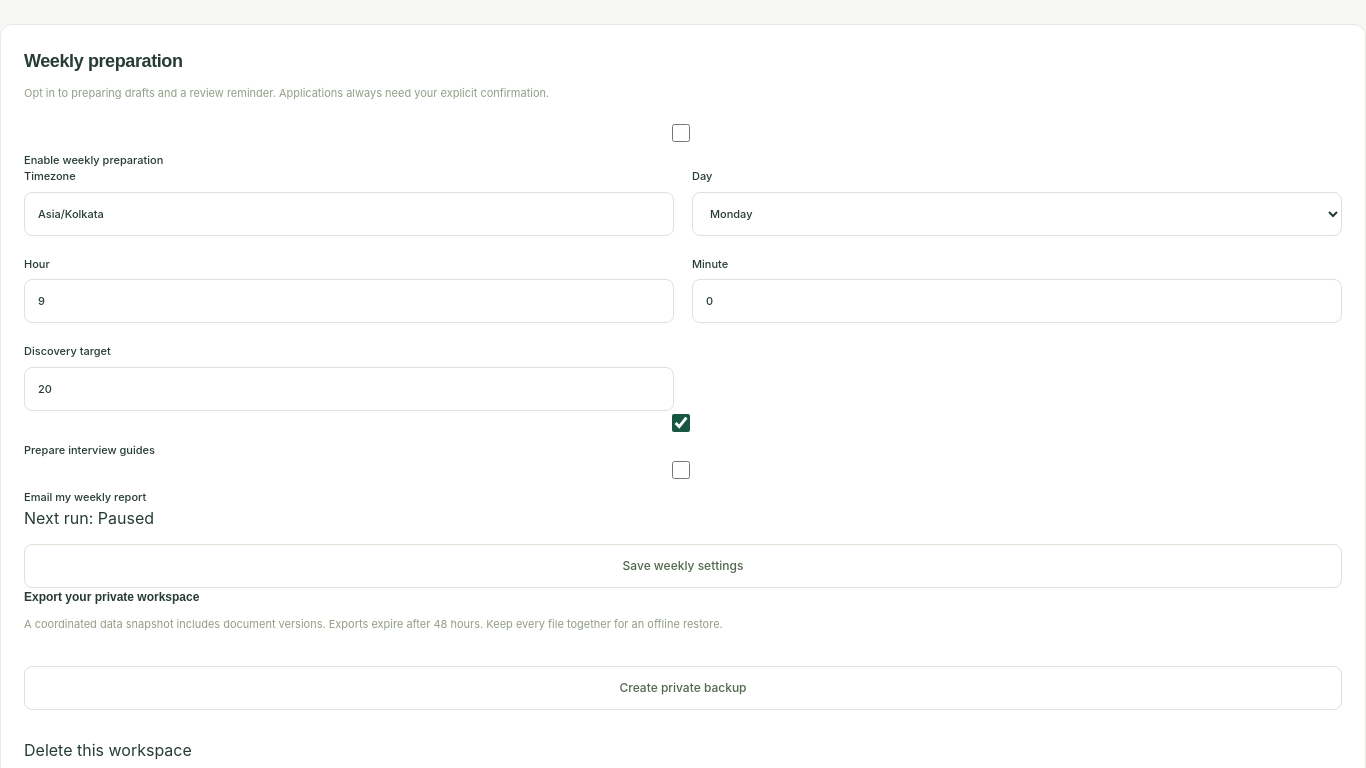
Test case: keeps provider errors visible and does not claim delivery
Expected: the text "Next run: Paused" is shown, [24,508,154,528]
Step 1. Click the button "Save weekly settings" → (683, 566), box [24,544,1342,588]
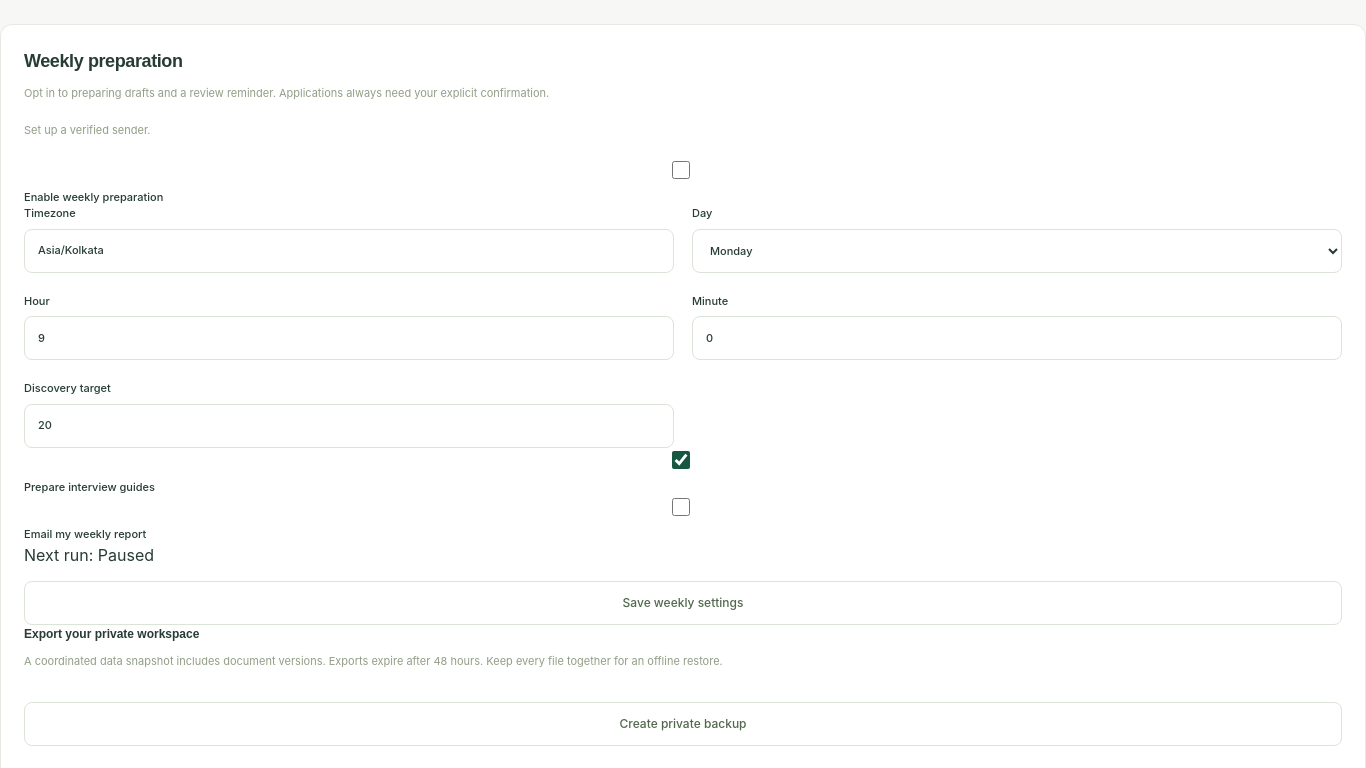
Expected: the message reads "Set up a verified sender.", [24,123,150,137]
